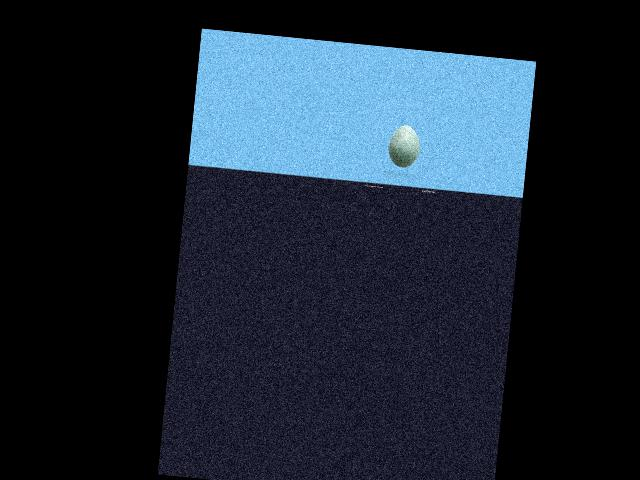egg: (386, 123, 421, 168)
